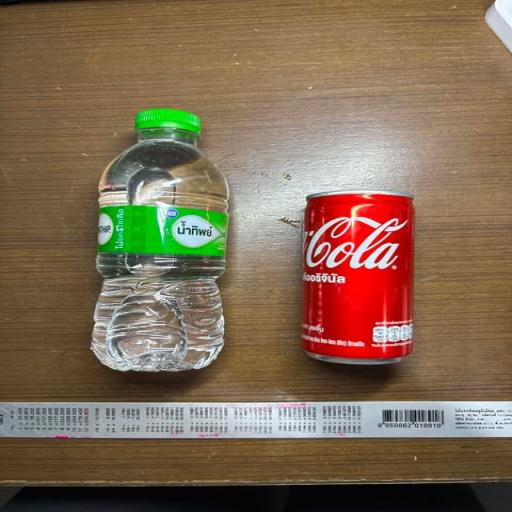ba: (74, 83, 244, 393), (270, 162, 444, 383)
